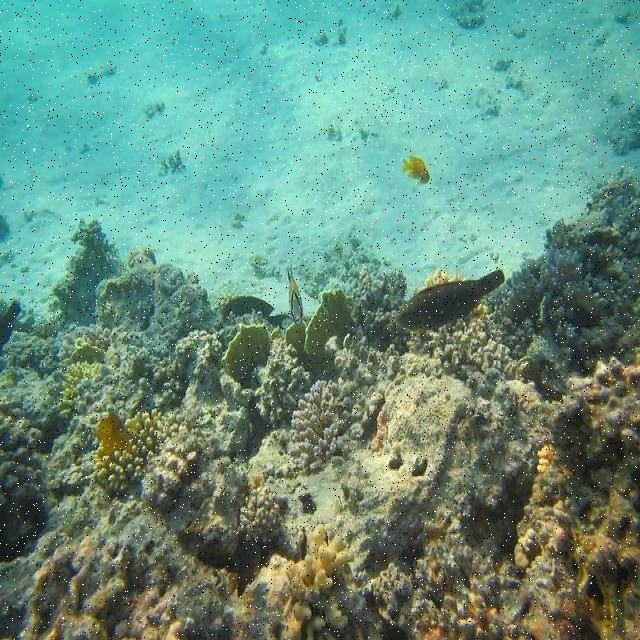fish: (395, 270, 506, 334), (287, 258, 303, 326), (403, 156, 429, 183)
reefs: (0, 173, 639, 639)
